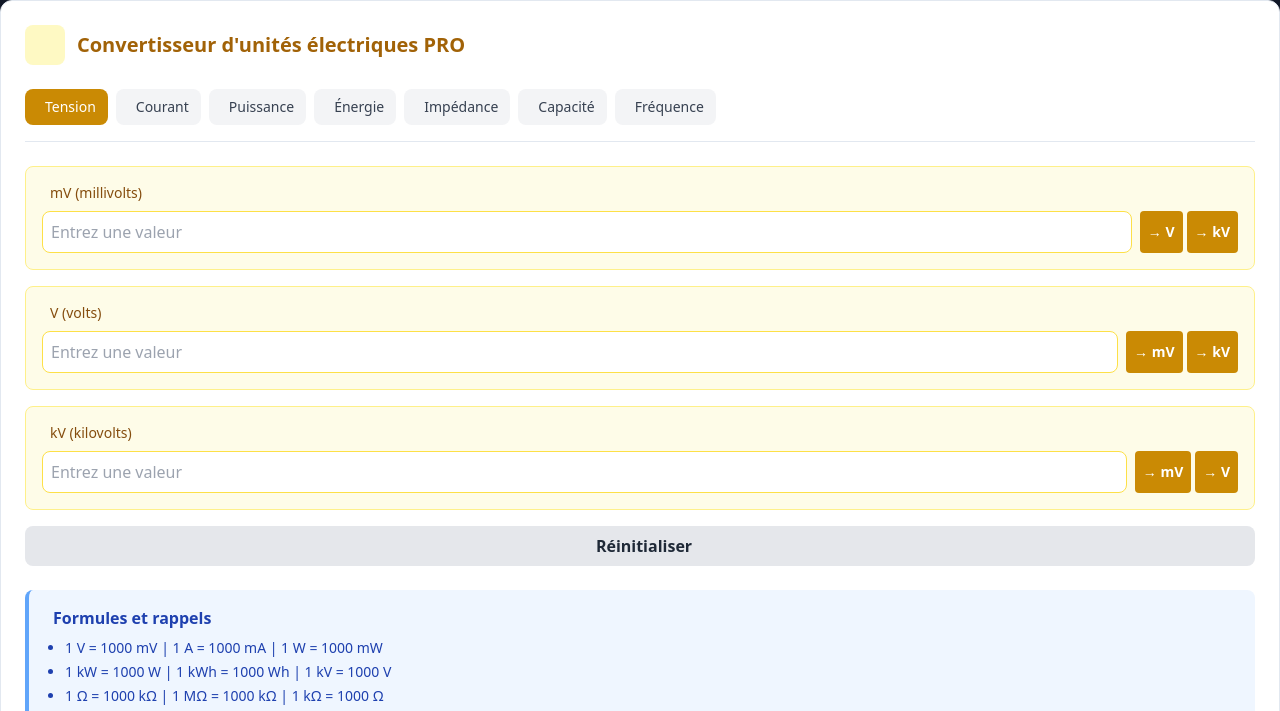
Scenario: ElectricalUnitConverter › converts mV to V correctly
The width and height of the screenshot is (1280, 711).
Type "5000" into the number field named "Valeur en mV".
click(587, 232); type("5000")  # box [42, 211, 1132, 253]
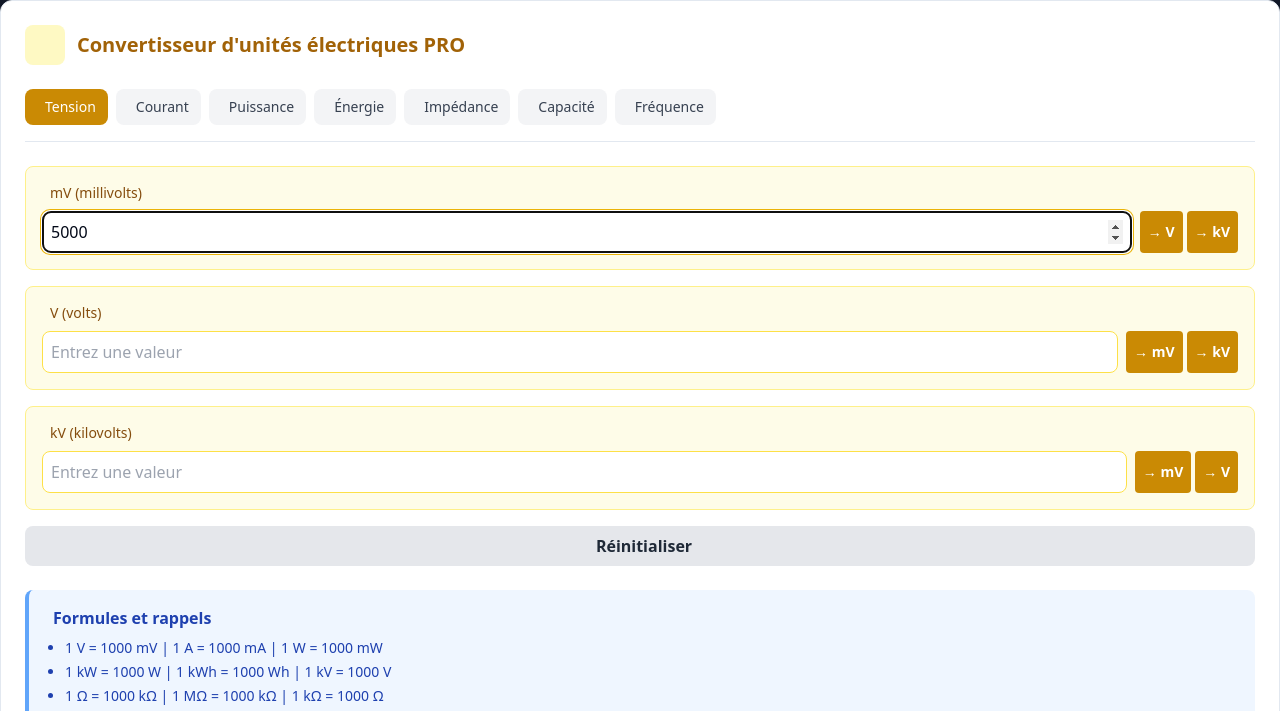
Click the 1st button titled "Convertir mV en V".
click(1161, 232)  # box [1140, 211, 1183, 253]
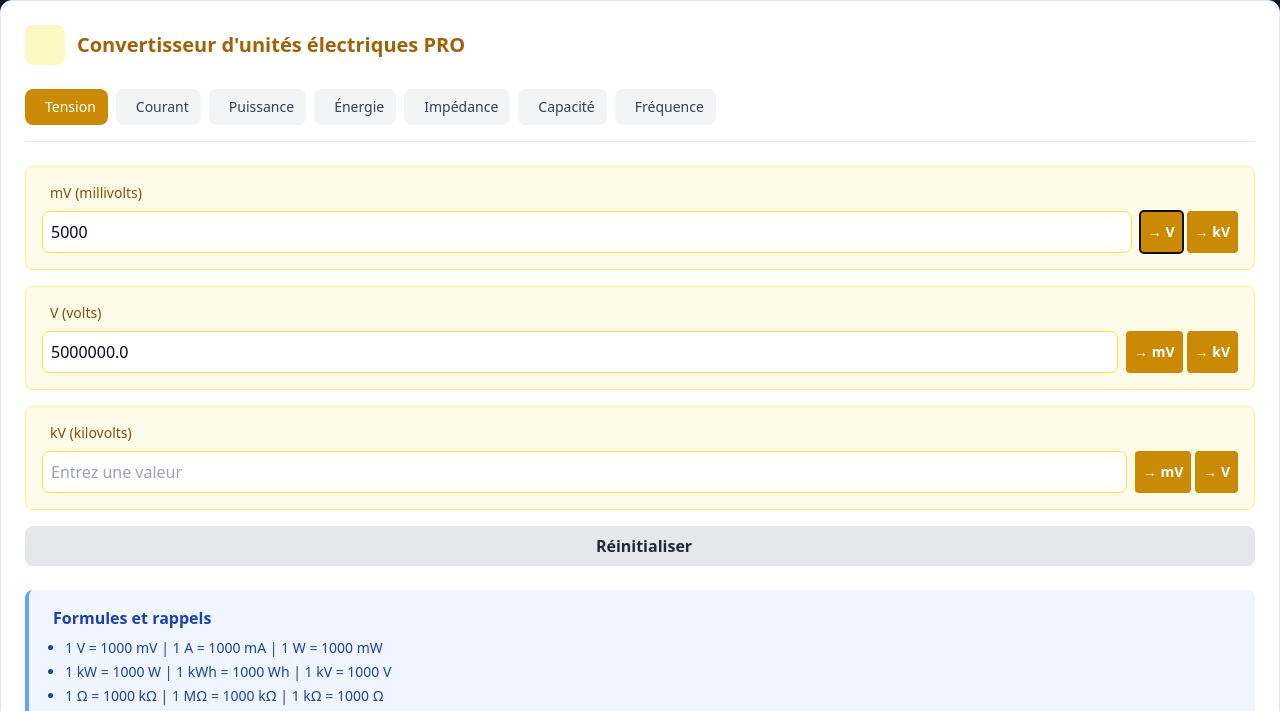
Check: the number field showing "5000000" is shown, box [42, 331, 1118, 373]
